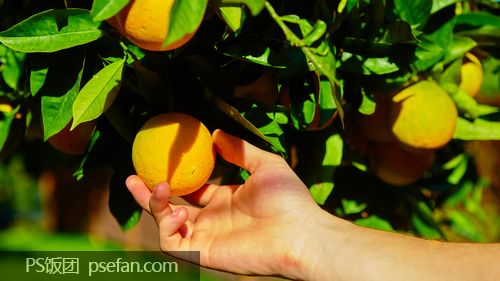orange: (133, 114, 216, 195), (376, 78, 459, 159), (106, 1, 202, 51)
